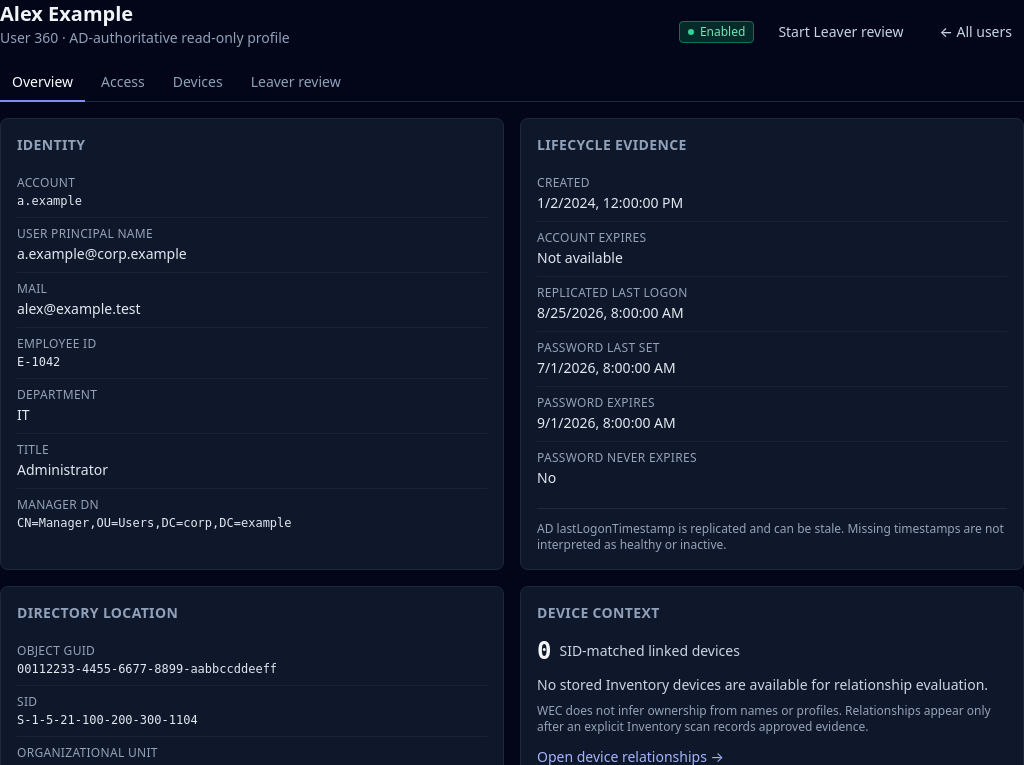
Scenario: UserDetailPage › states when no exact SID-matched device relationship exists
This screenshot has width=1024, height=765.
Click the tab "Devices".
click(198, 83)  # box [161, 64, 235, 102]
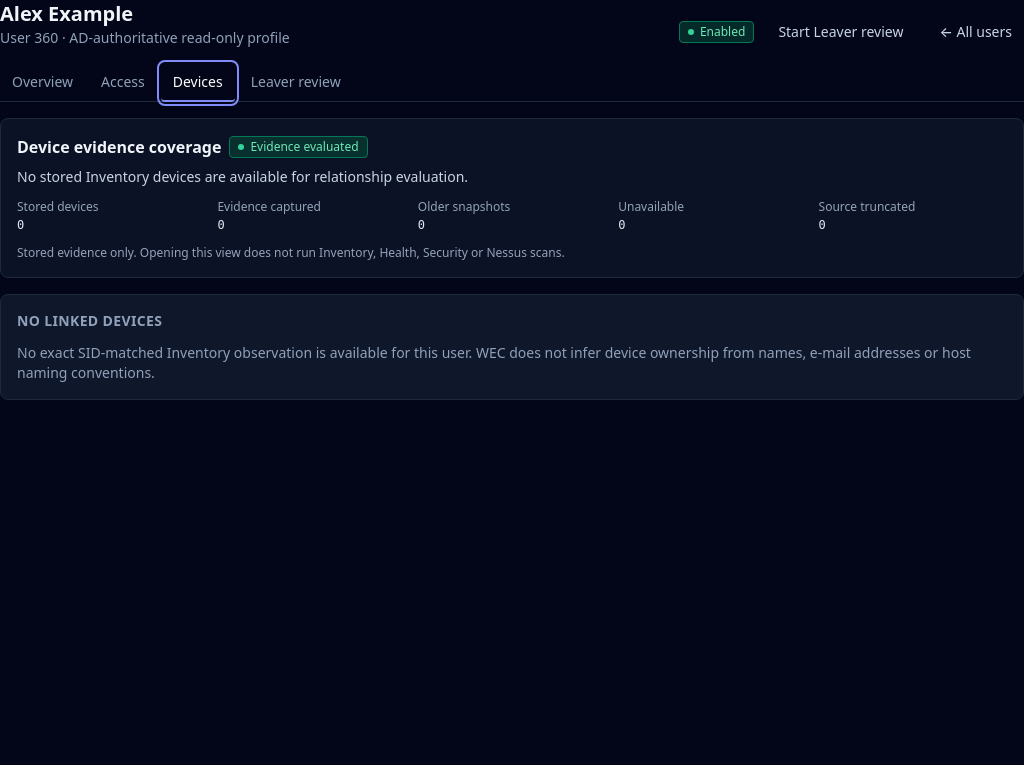
Expected: the heading "No linked devices" is shown, [17, 311, 162, 330]
Expected: the text "does not infer device ownership" is shown, [17, 343, 971, 382]
